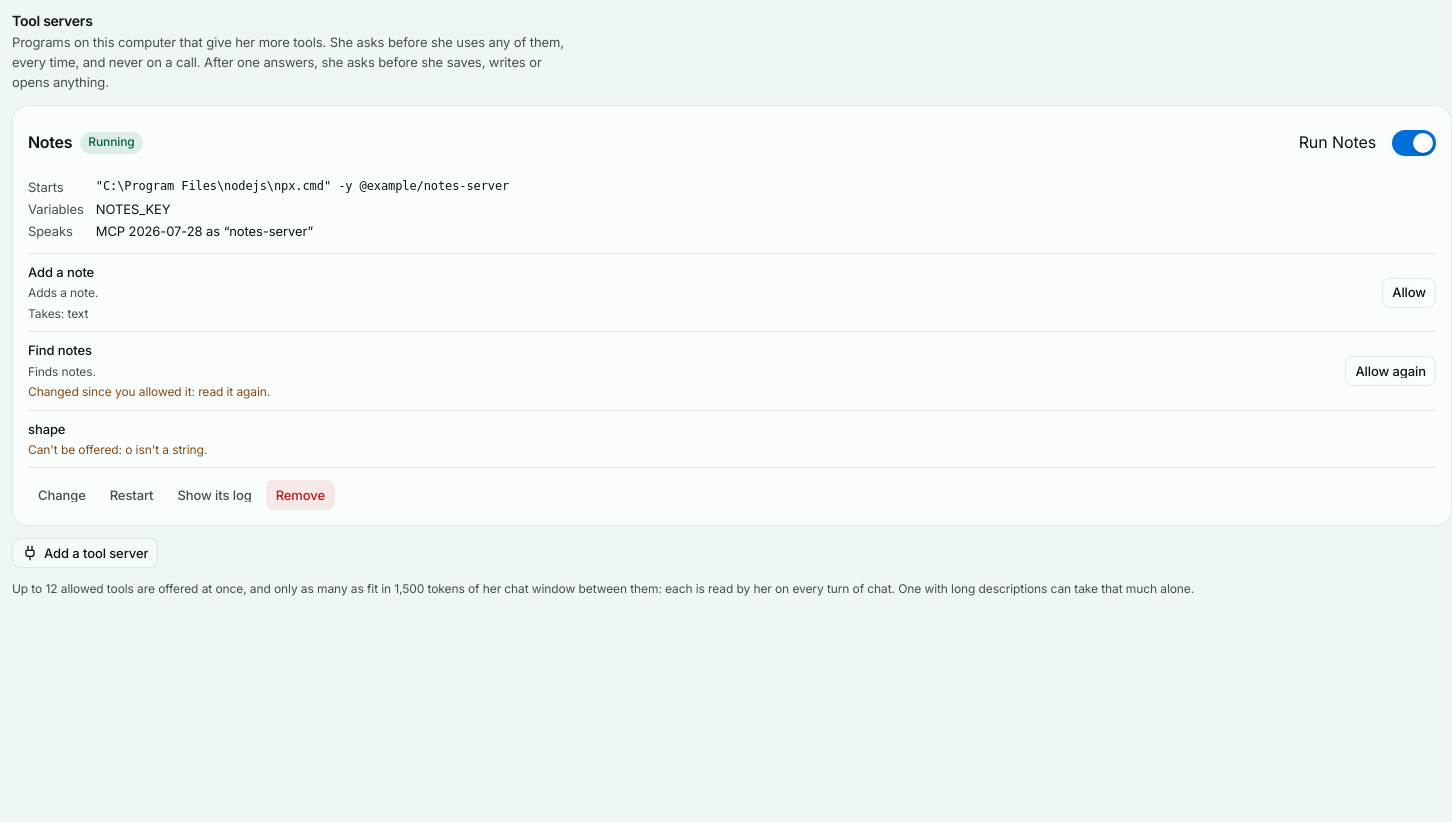
Test: tool servers › allows a tool through the API and shows the answer
Click the button with aria-label "Allow Add a note" at coordinates (1409, 293), box [1382,278,1436,308]
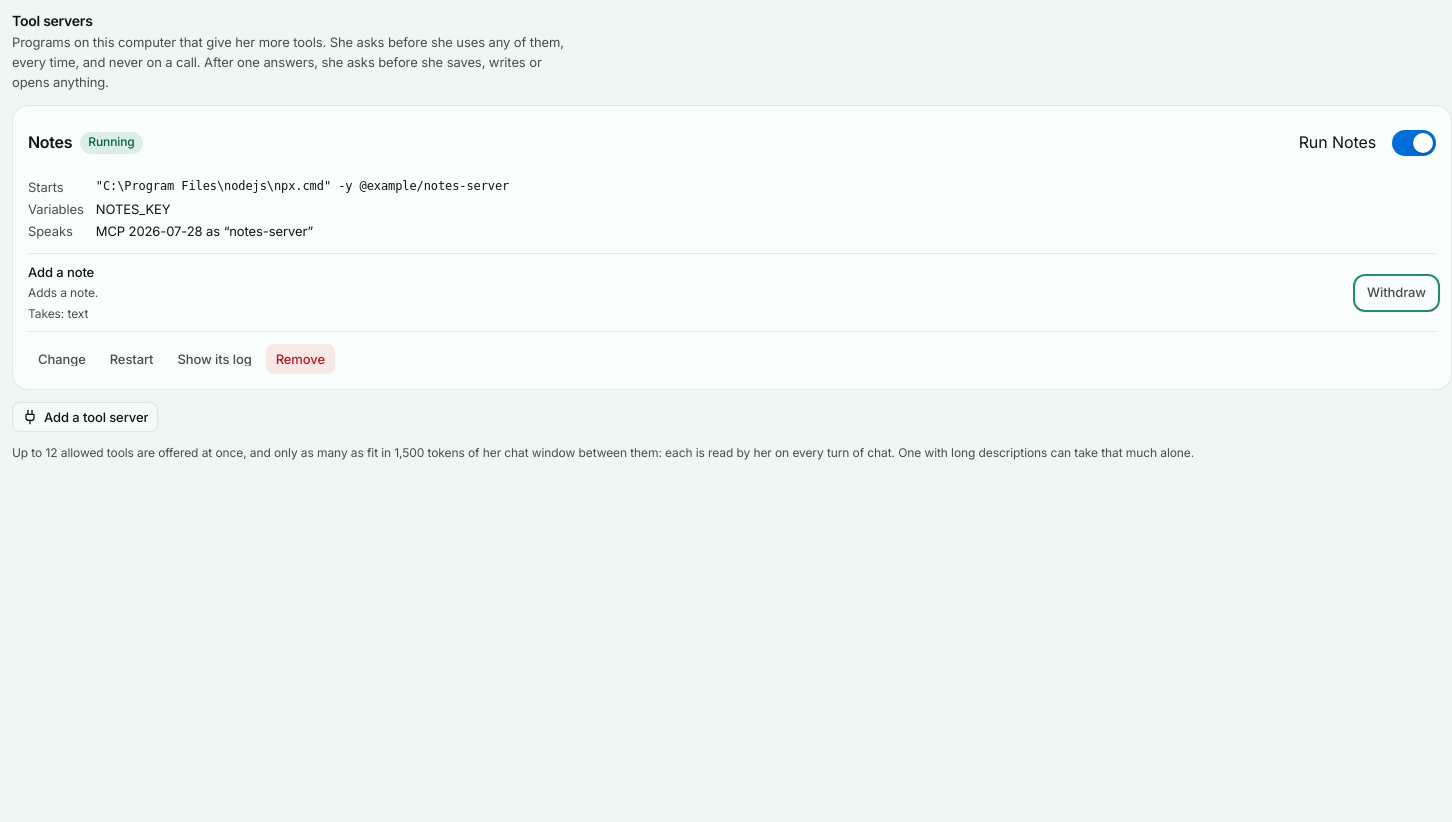
expect the button with aria-label "Withdraw Add a note" is shown: met, box [1357,278,1436,308]
